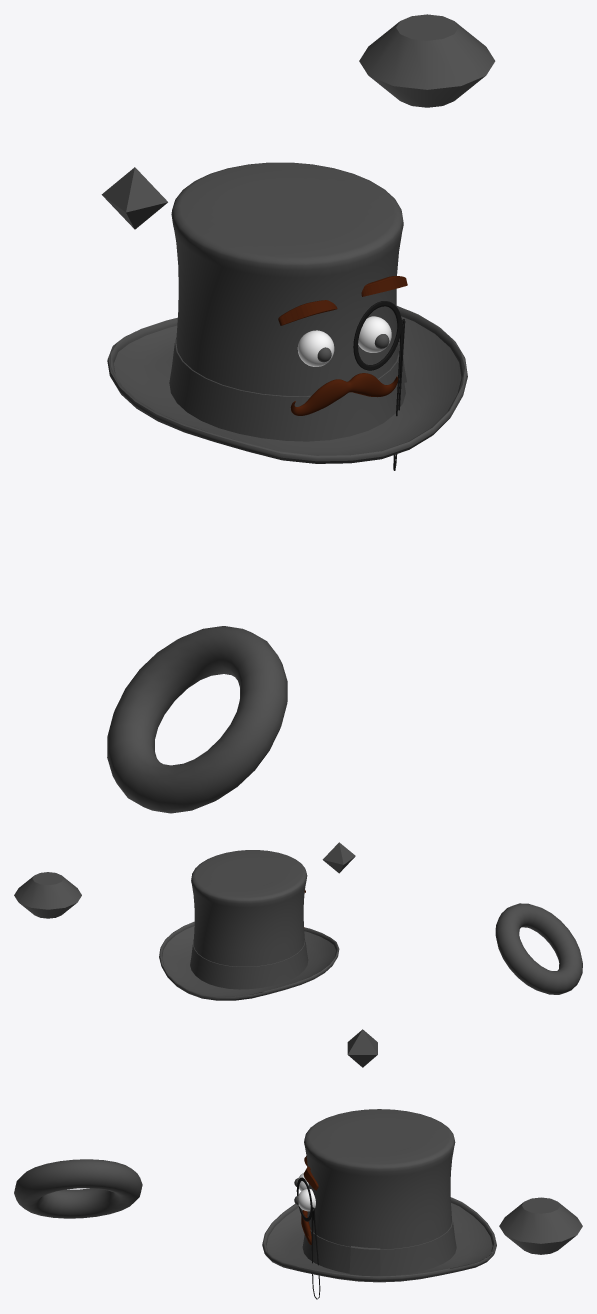
File: floating_shapes6_щдв.glb
3 renders of one model, top to bottom at view 1: azimuth 30°, elevation 25°; view 2: azimuth 150°, elevation 25°; view 3: azimuth 270°, elevation 25°, orthographic. The views are drawn at different scales.
Parts seen in each view (by area): view 1: CylinderBase, Shape001, ChamferCyl001, Hedra001, Moustache, Monocle; view 2: CylinderBase, Shape001, ChamferCyl001, Hedra001; view 3: CylinderBase, Shape001, ChamferCyl001, Hedra001, Monocle.
Part boxes in pixels (<box>): CylinderBase: <box>107,162,467,463</box>; Shape001: <box>107,626,287,813</box>; ChamferCyl001: <box>359,14,495,107</box>; Hedra001: <box>101,167,167,229</box>; Moustache: <box>290,373,398,415</box>; Monocle: <box>353,301,405,470</box>; CylinderBase: <box>159,850,339,1000</box>; Shape001: <box>495,903,582,994</box>; ChamferCyl001: <box>14,872,81,918</box>; Hedra001: <box>322,842,355,873</box>; CylinderBase: <box>262,1109,496,1282</box>; Shape001: <box>14,1159,142,1218</box>; ChamferCyl001: <box>499,1197,582,1254</box>; Hedra001: <box>347,1029,377,1067</box>; Monocle: <box>296,1177,320,1299</box>.
Bounding box in the file's own units: 229 × 123 × 249.
